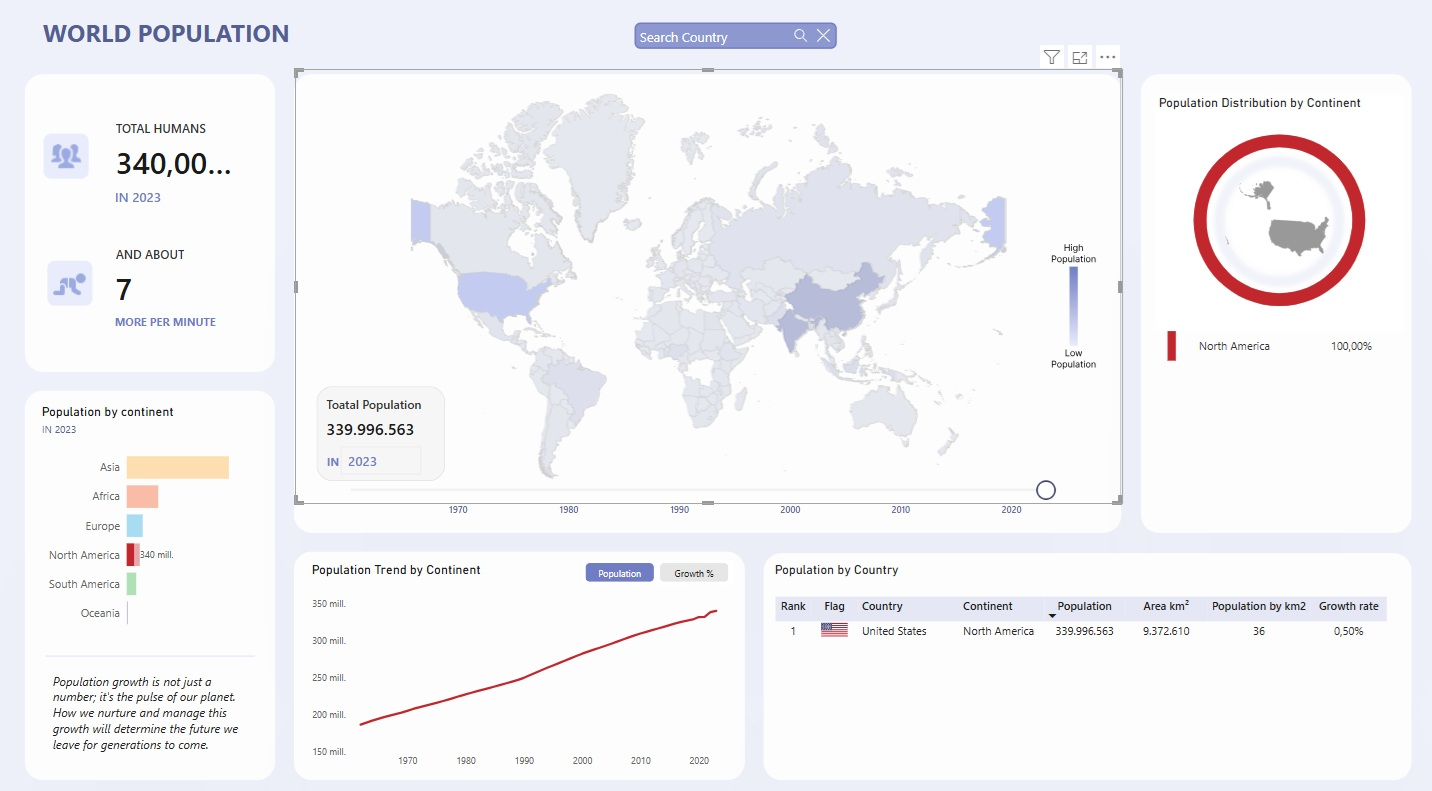

The dashboard page shown, as its layout file describes it:
{"tool":"powerbi","page":{"name":"Population","canvas":[1920,1080],"ordinal":0},"visuals":[{"type":"group","id":"g1","title":"Map","box":[401,101,1100,578.7],"z":0},{"type":"shapeMap","fields":{"Category":["Country2.Country"],"Value":["Sum(Country2.Value)"]},"box":[401.7,101.1,1099.3,578.6],"z":0,"group":"g1"},{"type":"shapeMap","fields":{"Category":["Countries.Country"],"Value":["Population.Latest Population Count"]},"box":[1625.3,216,162.6,166.8],"z":0,"group":"g3"},{"type":"clusteredColumnChart","fields":{"Y":["Population.Total Population 2"],"Category":["Years.Date"]},"box":[465.7,593.8,963.7,112],"z":0,"group":"g2"},{"type":"shapeMap","fields":{"Category":["Countries.Country"],"Value":["Population.Latest Population Count"]},"box":[401,101,1098.4,578],"z":1000,"group":"g1"},{"type":"shape","box":[1614.8,208.4,190,190],"z":1000,"group":"g3"},{"type":"slicer","fields":{"Values":["Years2.Years2"]},"box":[448,594.1,972.3,122.4],"z":1000,"group":"g2"},{"type":"tableEx","title":"Population by Country","fields":{"Values":["_Measures.Ranking","Countries.Flag","Countries.Country","Countries.Continent","Population.Latest Population Count","Countries.Area km²","Population.Population by km2","_Measures.Growth rate 2"]},"box":[1033.7,756.7,840.8,282.6],"z":1000},{"type":"tableEx","fields":{"Values":["Countries.Continent 2","Countries.Blank","Countries.Continent","Population.Latest Population Count"]},"box":[1554.7,395.6,319.8,314.3],"z":2000},{"type":"textbox","box":[422.7,608.6,41.3,34.5],"z":2000,"group":"g2"},{"type":"cardVisual","title":"TOTAL HUMANS","fields":{"Data":["Population.Latest Population Count"]},"box":[419,508.1,186.2,146.3],"z":3000},{"type":"lineChart","fields":{"Y":["_Measures.Total Population"],"Series":["Countries.Continent"],"Category":["Years.Year"]},"box":[418.2,757,568.7,282.4],"z":4000},{"type":"cardVisual","title":"TOTAL HUMANS","fields":{"Data":["Population.Latest Population Count"]},"box":[145,151.6,207.5,102.4],"z":5000},{"type":"cardVisual","title":"ABOUT","fields":{"Data":["Population.Birt Rate per minute"]},"box":[145.3,319.2,196.8,107.7],"z":6000},{"type":"multiRowCard","fields":{"Values":["Years.in Year label"]},"box":[155.9,254,115.7,42.6],"z":7000},{"type":"textbox","box":[155.6,421.6,174.2,50.5],"z":8000},{"type":"textbox","box":[60.3,25.5,365.8,63],"z":9000},{"type":"clusteredBarChart","title":"Population by continent","fields":{"Category":["Countries.Continent"],"Y":["_Measures.Latest Population Count"]},"box":[57.9,547.2,314.3,314.3],"z":10000},{"type":"textbox","box":[73.1,898.7,274.3,140.6],"z":11000},{"type":"advancedSlicerVisual","fields":{"Values":["Pop Parameter.Pop Parameter"]},"box":[780.7,754.1,203.5,33.3],"z":12000},{"type":"group","id":"g2","title":"year_slicer","box":[422.7,593.8,1006.6,122.6],"z":16000},{"type":"donutChart","title":"Population Distribution by Continent","fields":{"Category":["Countries.Continent"],"Y":["Population.Latest Population Count"]},"box":[1543.7,135.1,330.8,314.3],"z":17000},{"type":"group","id":"g3","title":"mini_map","box":[1614.8,208.4,190,190],"z":18000},{"type":"textSearchSlicerF85E2E78BE4A4D7D9F99ED75B5D71C85","fields":{"fields":["Countries.Country"]},"box":[841.9,29.3,288.6,58.5],"z":19000}]}

Visuals, with their boxes in screenshot pixels (x1, y1, x2, y2), scaled from the page's 1920x1080 canvas onto the 1432x791 screenshot:
"Map" group: [left=299, top=74, right=1119, bottom=498]
shapeMap - Country2.Country x Sum(Country2.Value): [left=300, top=74, right=1119, bottom=498]
shapeMap - Countries.Country x Population.Latest Population Count: [left=1212, top=158, right=1333, bottom=280]
clusteredColumnChart - Population.Total Population 2 x Years.Date: [left=347, top=435, right=1066, bottom=517]
shapeMap - Countries.Country x Population.Latest Population Count: [left=299, top=74, right=1118, bottom=497]
shape: [left=1204, top=153, right=1346, bottom=292]
slicer - Years2.Years2: [left=334, top=435, right=1059, bottom=525]
"Population by Country" tableEx: [left=771, top=554, right=1398, bottom=761]
tableEx - Countries.Continent 2 x Countries.Blank: [left=1160, top=290, right=1398, bottom=520]
textbox: [left=315, top=446, right=346, bottom=471]
"TOTAL HUMANS" cardVisual: [left=313, top=372, right=451, bottom=479]
lineChart - _Measures.Total Population x Countries.Continent: [left=312, top=554, right=736, bottom=761]
"TOTAL HUMANS" cardVisual: [left=108, top=111, right=263, bottom=186]
"ABOUT" cardVisual: [left=108, top=234, right=255, bottom=313]
multiRowCard - Years.in Year label: [left=116, top=186, right=203, bottom=217]
textbox: [left=116, top=309, right=246, bottom=346]
textbox: [left=45, top=19, right=318, bottom=65]
"Population by continent" clusteredBarChart: [left=43, top=401, right=278, bottom=631]
textbox: [left=55, top=658, right=259, bottom=761]
advancedSlicerVisual - Pop Parameter.Pop Parameter: [left=582, top=552, right=734, bottom=577]
"year_slicer" group: [left=315, top=435, right=1066, bottom=525]
"Population Distribution by Continent" donutChart: [left=1151, top=99, right=1398, bottom=329]
"mini_map" group: [left=1204, top=153, right=1346, bottom=292]
textSearchSlicerF85E2E78BE4A4D7D9F99ED75B5D71C85 - Countries.Country: [left=628, top=21, right=843, bottom=64]
